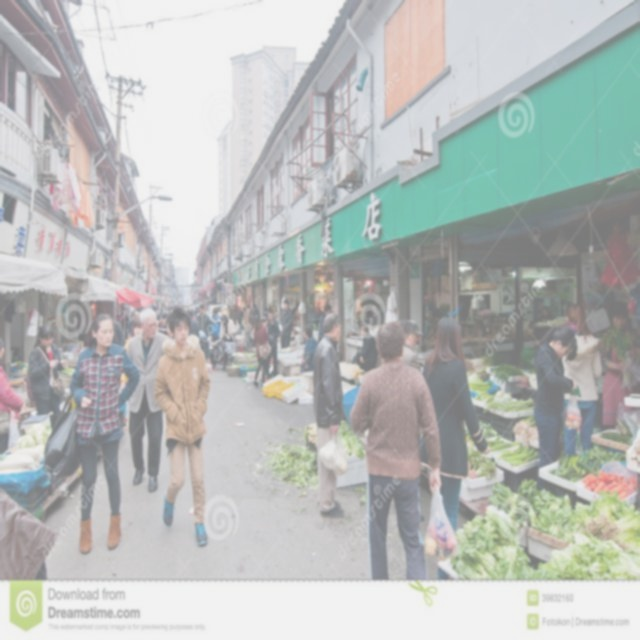pessoa: (348, 318, 443, 614), (420, 314, 490, 580), (67, 310, 141, 557), (154, 306, 211, 546), (532, 324, 579, 493), (558, 302, 604, 456), (312, 310, 345, 517), (0, 484, 60, 582), (599, 298, 635, 429), (28, 324, 68, 416), (0, 336, 25, 456), (118, 317, 144, 394), (251, 313, 271, 390), (351, 323, 378, 373), (398, 318, 422, 374), (264, 308, 281, 380), (299, 325, 318, 373), (280, 298, 294, 350), (22, 366, 37, 409), (317, 303, 332, 344), (218, 313, 236, 343), (208, 306, 222, 342), (111, 318, 126, 348), (187, 306, 200, 338), (422, 288, 429, 346), (196, 304, 210, 332), (127, 310, 142, 336), (120, 312, 130, 351), (257, 316, 269, 348), (200, 334, 212, 366), (156, 314, 172, 338), (537, 304, 555, 322), (207, 334, 216, 368), (236, 306, 246, 335), (250, 304, 260, 326), (154, 304, 174, 314), (248, 304, 257, 326), (264, 306, 278, 314)
